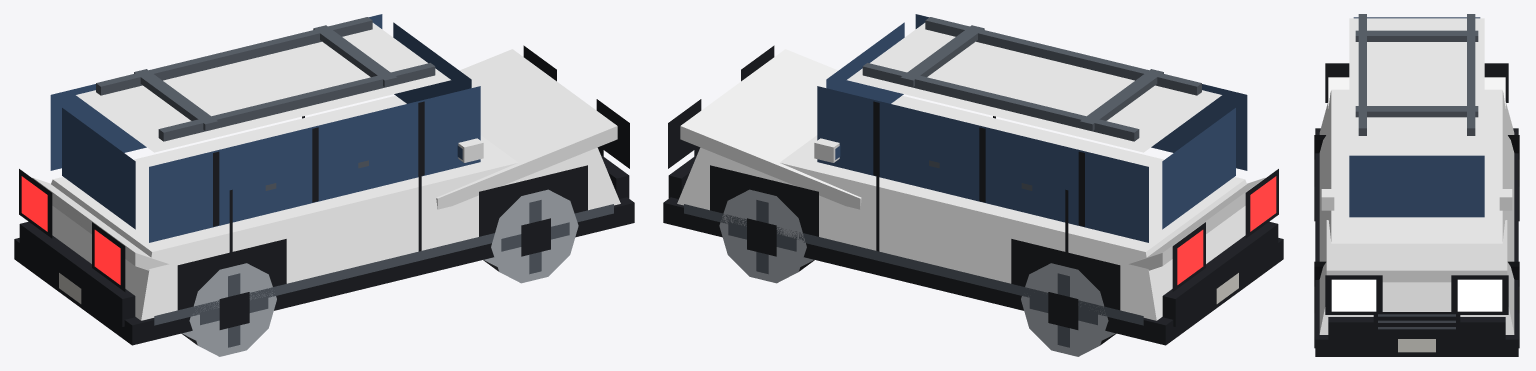
File: car_suv_long.glb
The picture shows the model from 3 angles, left to right: view 1: azimuth 30°, elevation 25°; view 2: azimuth 150°, elevation 25°; view 3: azimuth 270°, elevation 25°; orthographic projection. The views are drawn at different scales.
Parts seen in each view (by area): view 1: car_suv_long; view 2: car_suv_long; view 3: car_suv_long.
Part boxes in pixels (x1,y1,x2,y2): car_suv_long: (14,14,634,356); car_suv_long: (663,14,1283,356); car_suv_long: (1314,14,1519,356).
Size of the model in its own units: 0.4761 by 0.1902 by 0.1974.
